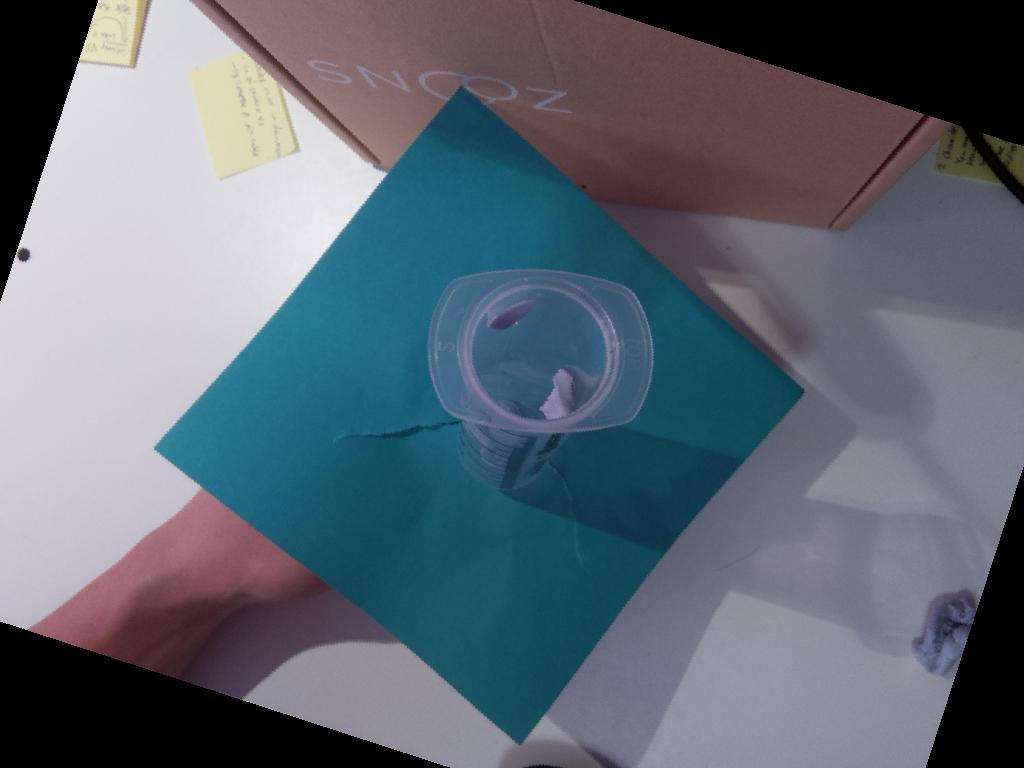dirty: (428, 268, 655, 434)
